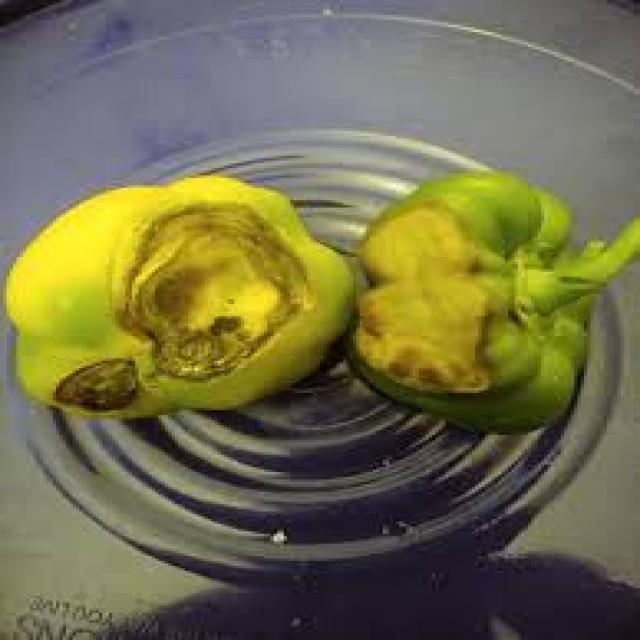Wet Waste: (4, 162, 362, 426), (350, 150, 615, 452)
